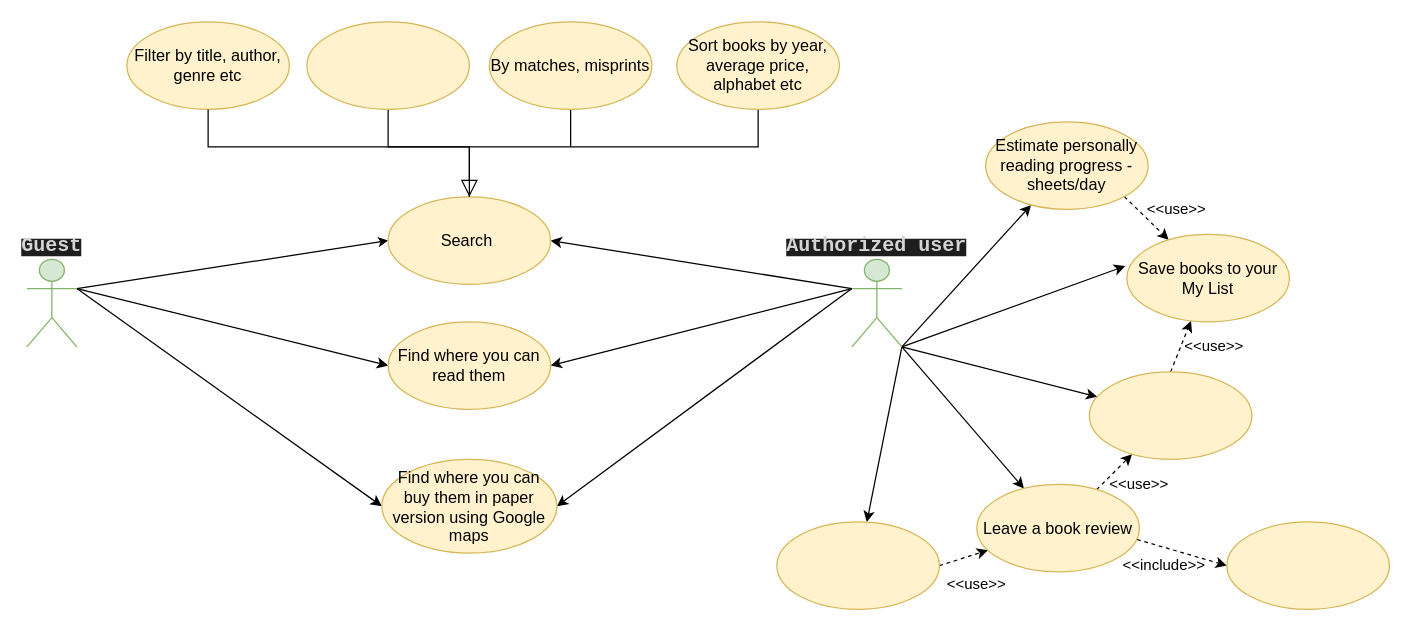
This 1411x631 diagram has some shape labels left out. Each missing label, with the box of its shape:
Put a tick on the read books: (1088, 371, 1252, 459)
Rate read books: (1226, 521, 1389, 609)
Share review on Social Networks: (776, 521, 939, 609)
Use logical operators (OR, AND, NOT): (306, 21, 469, 109)
